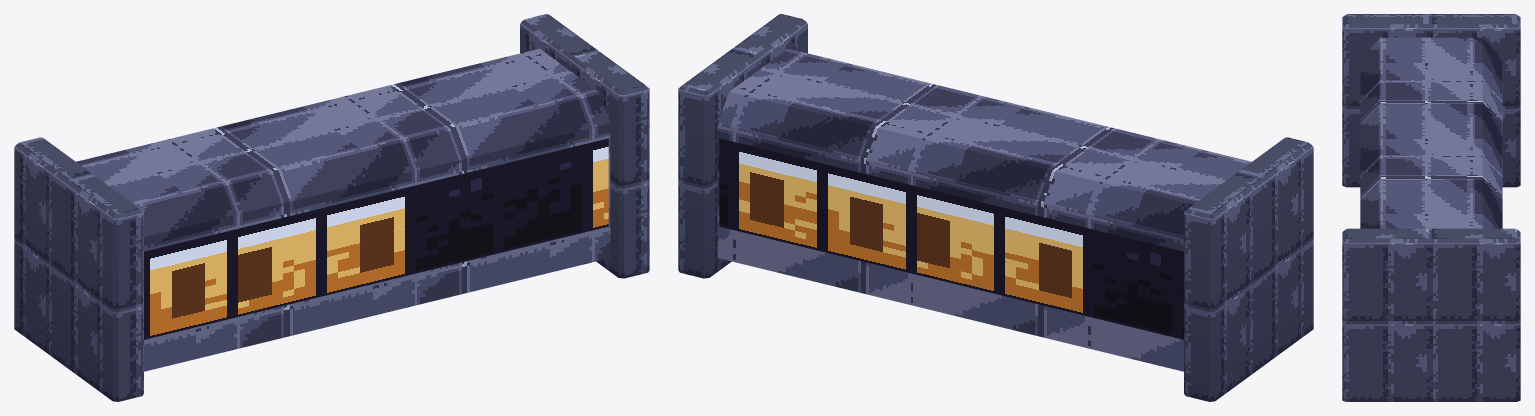
Rendered from cytower.skybridge.glb.
3 views of the same model, side by side, from view 1: azimuth 30°, elevation 25°; view 2: azimuth 150°, elevation 25°; view 3: azimuth 270°, elevation 25° (orthographic). The views are drawn at different scales.
Visible parts, largest first — view 1: kit_tube, kit_card_windows; view 2: kit_tube, kit_card_windows; view 3: kit_tube.
Boxes of the visible parts, <box> form: kit_tube: <box>14,14,649,401</box>; kit_card_windows: <box>144,138,608,339</box>; kit_tube: <box>678,14,1313,401</box>; kit_card_windows: <box>719,138,1183,339</box>; kit_tube: <box>1342,14,1520,401</box>.
Size of the model in its own units: 12.1 by 4 by 4.
4 materials, 4 textured.
